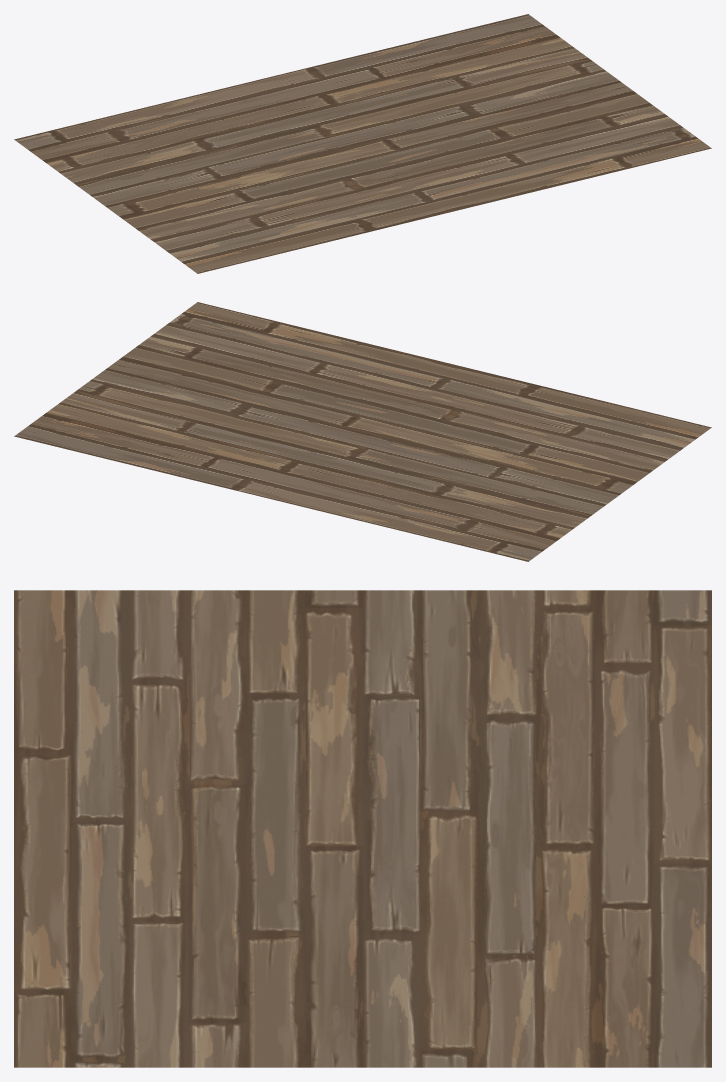
File: suelo_granero.FBX
3 renders of one model, top to bottom at view 1: azimuth 30°, elevation 25°; view 2: azimuth 150°, elevation 25°; view 3: azimuth 270°, elevation 25°, orthographic. The views are drawn at different scales.
Visible parts, largest first — view 1: Plane002; view 2: Plane002; view 3: Plane002.
Part boxes in pixels (x1,y1,x2,y2): Plane002: (14,14,711,273); Plane002: (14,302,711,561); Plane002: (14,590,711,1067).
Bounding box in the file's own units: 2460 × 8.53e-14 × 1521.
